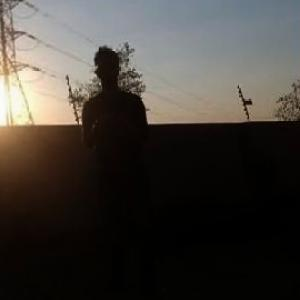follow: (81, 39, 177, 290)
